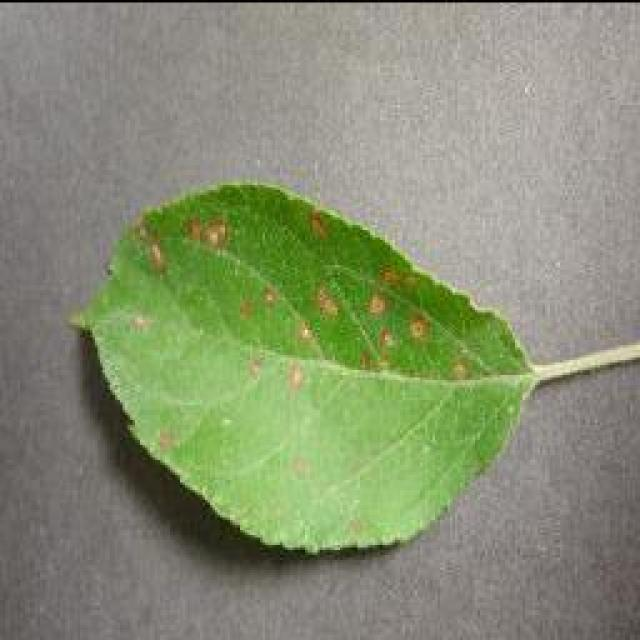apple healthy: (68, 178, 638, 558)
